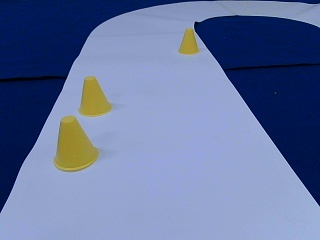cone: (55, 117, 99, 171), (78, 77, 111, 116), (178, 28, 198, 54)
